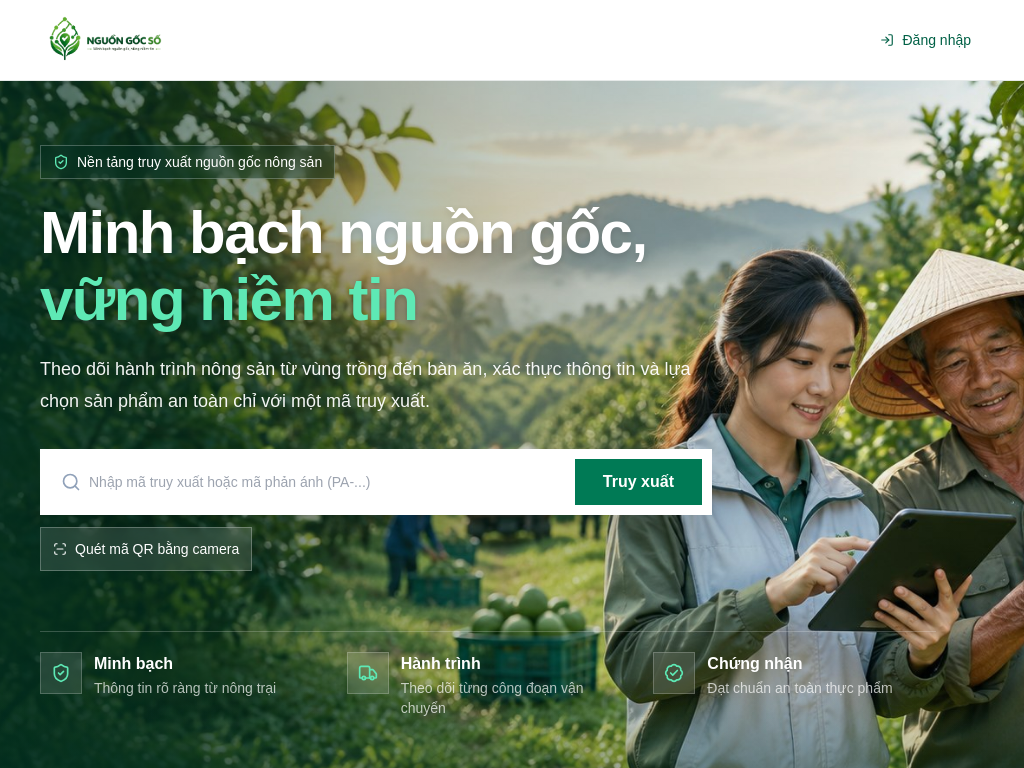
Test: PublicHomePage unified search › displays 404 error inline when feedback code is not found
The width and height of the screenshot is (1024, 768).
Type "PA-0000-0000-0000-0000" into the field labelled "mã truy xuất hoặc mã phản ánh" at (321, 482), box [89,458,554,506]
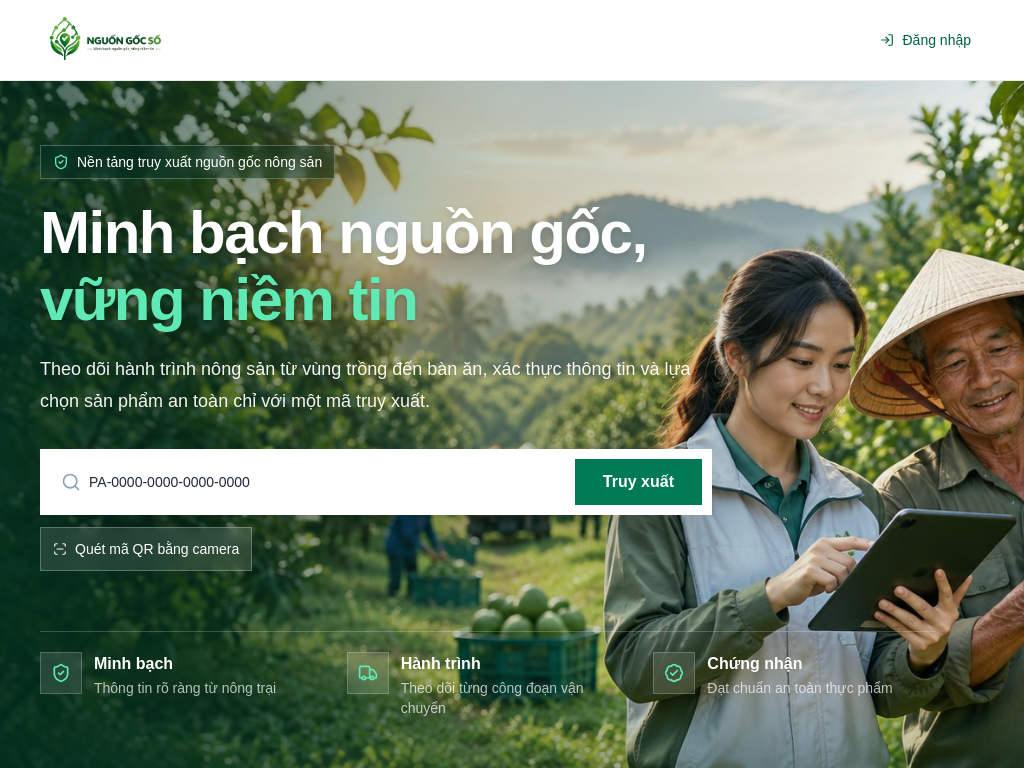
Click the button "Truy xuất" at (638, 482), box [574,458,703,506]
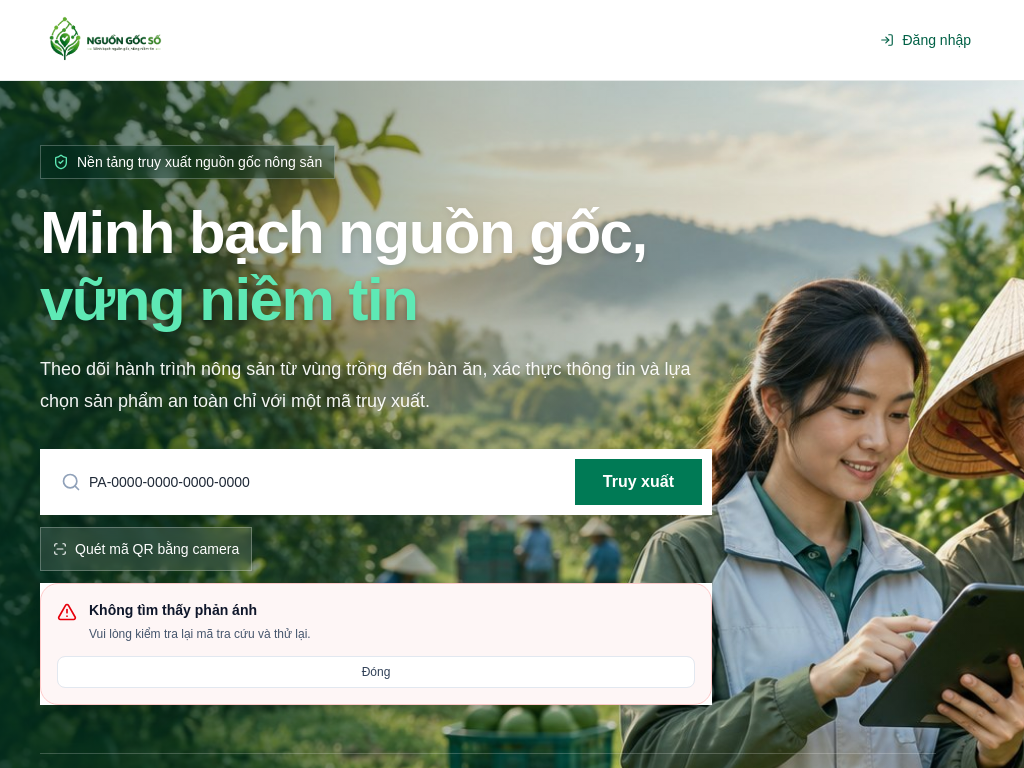
Expected: the text "Không tìm thấy phản ánh" is shown, [89,602,257,618]
Expected: the text "Vui lòng kiểm tra lại mã tra cứu và thử lại." is shown, [89,627,311,641]
